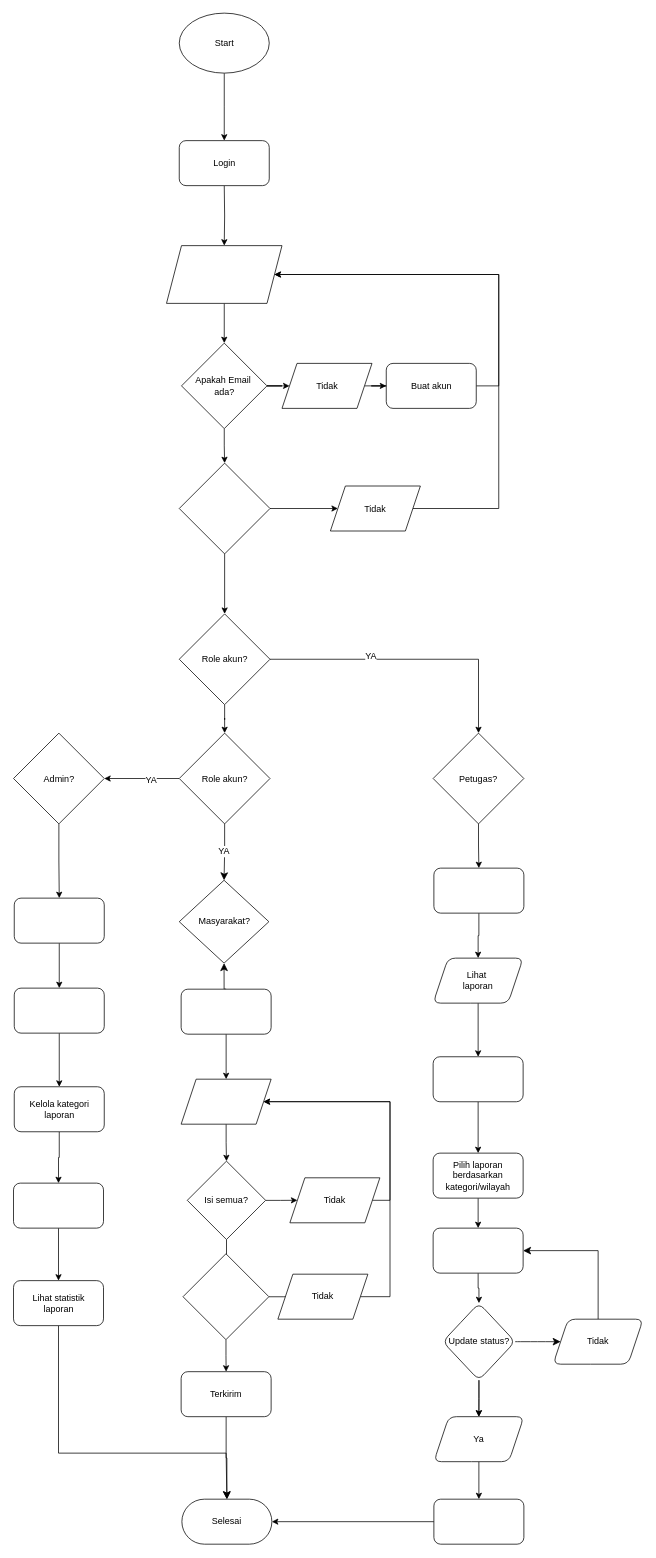
The diagram is 656 pixels wide and 1558 high, and some of its shapes have lost their labels. The centre of each missing label's shape, as x and y in pixels:
Apakah Email dan password ada?: (224,508)
Berhasil terkirim?: (225,1296)
Buat laporan: (225,1101)
Halaman admin: (59,920)
Halaman masyarakat: (225,1011)
Ke halaman petugas: (478,890)
Keloka data pengguna: (59,1010)
Kirim tanggapan: (477,1250)
Lihat daftar laporan masuk: (477,1079)
Masukan email dan password: (224,274)
Monitoring semua laporan dan respon: (58,1205)
Update status: (478,1521)
